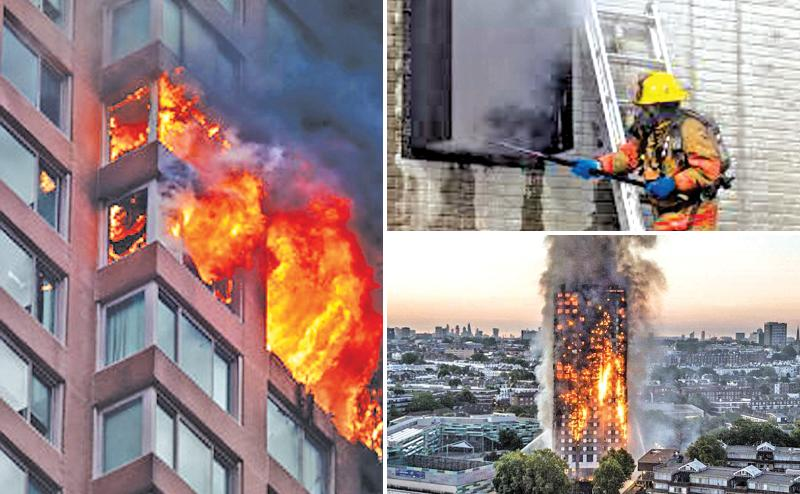Fire: (107, 78, 380, 444), (545, 310, 635, 458)
